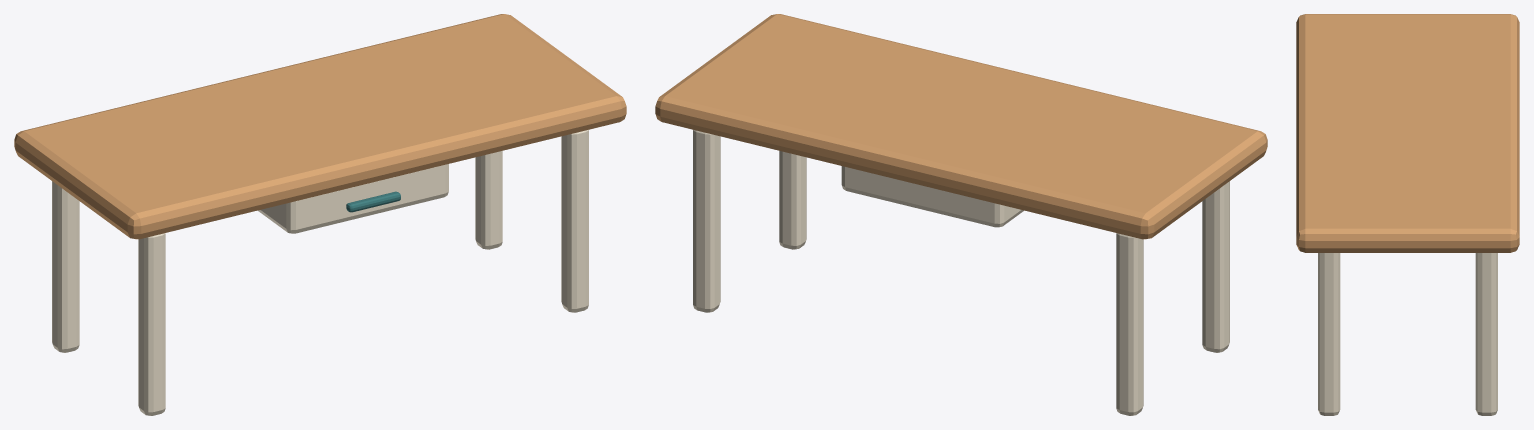
File: bedroom_desk.glb
3 views of the same model, side by side, from view 1: azimuth 30°, elevation 25°; view 2: azimuth 150°, elevation 25°; view 3: azimuth 270°, elevation 25° (orthographic). The views are drawn at different scales.
Visible parts, largest first — view 1: bedroom_desk_Mesh; view 2: bedroom_desk_Mesh; view 3: bedroom_desk_Mesh.
Part boxes in pixels (left/top/right/bottom): bedroom_desk_Mesh: left=14, top=14, right=626, bottom=415; bedroom_desk_Mesh: left=655, top=14, right=1267, bottom=415; bedroom_desk_Mesh: left=1296, top=14, right=1519, bottom=415.
Bounding box in the file's own units: 2 × 0.83 × 0.85.
